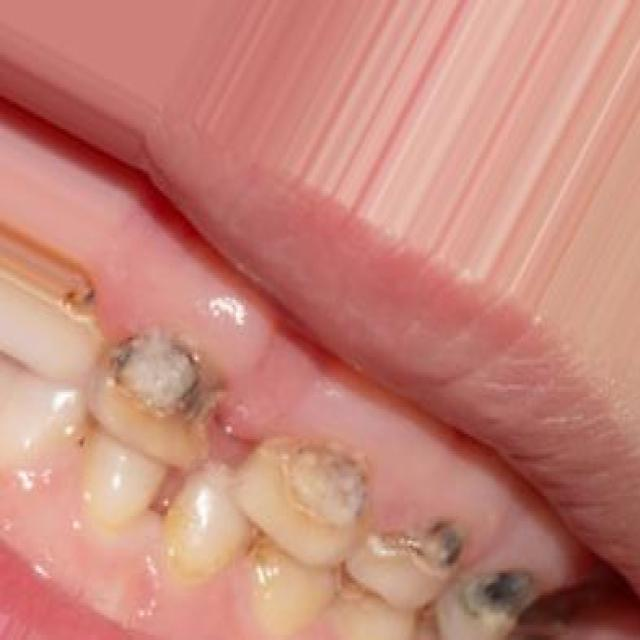caries: (97, 314, 218, 469), (243, 414, 360, 552), (346, 492, 463, 606), (436, 550, 544, 638)
